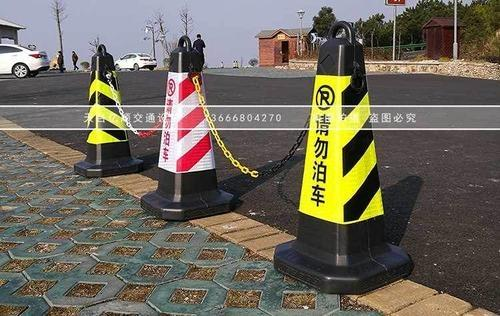cone_barrel: (278, 14, 403, 282), (143, 35, 234, 213), (74, 43, 141, 174)
